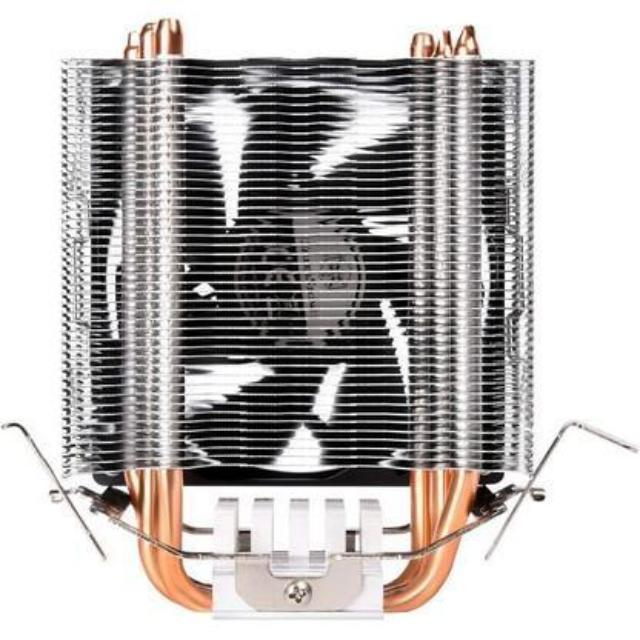CPU_Fan: (60, 19, 546, 610)
